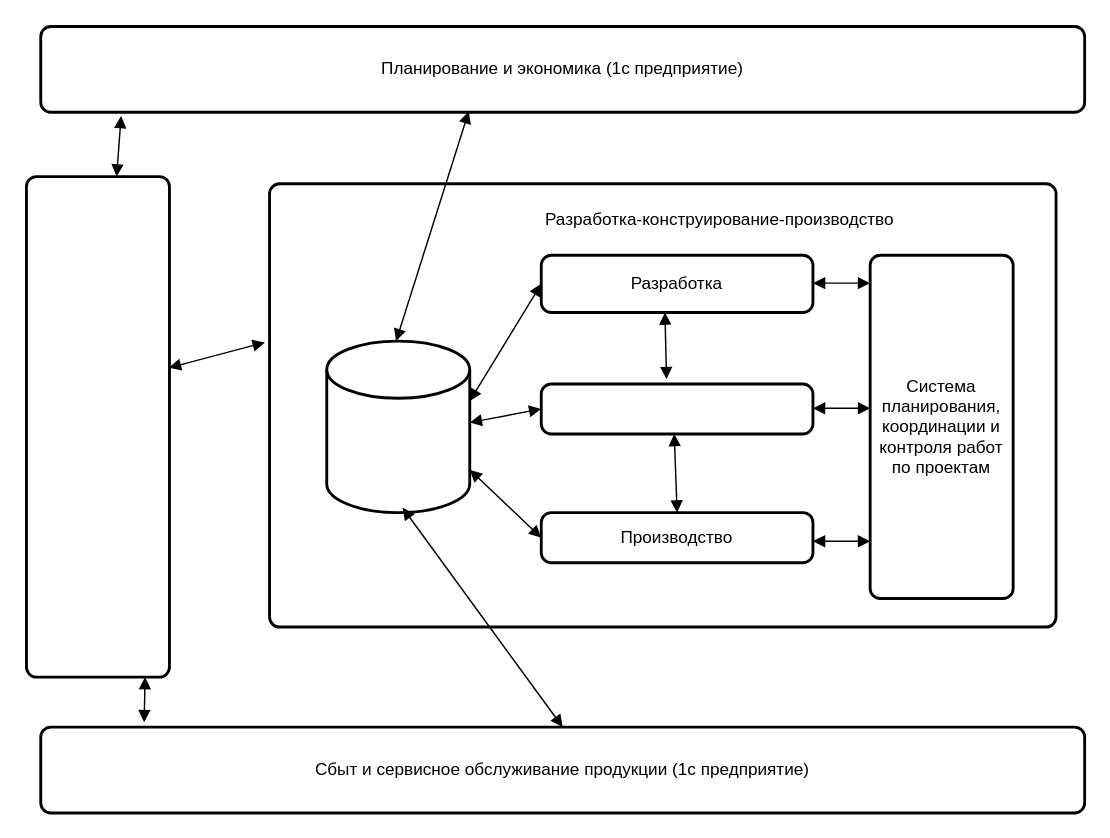
Image size: 1110x838. Some labels were removed from this diagram. Here are the shapes that lost their labels. From the top down, the box of each, then its label:
(24, 174, 170, 678): Системы обеспечения
(325, 339, 470, 513): Единая база данных
(539, 382, 814, 435): Конструирование
